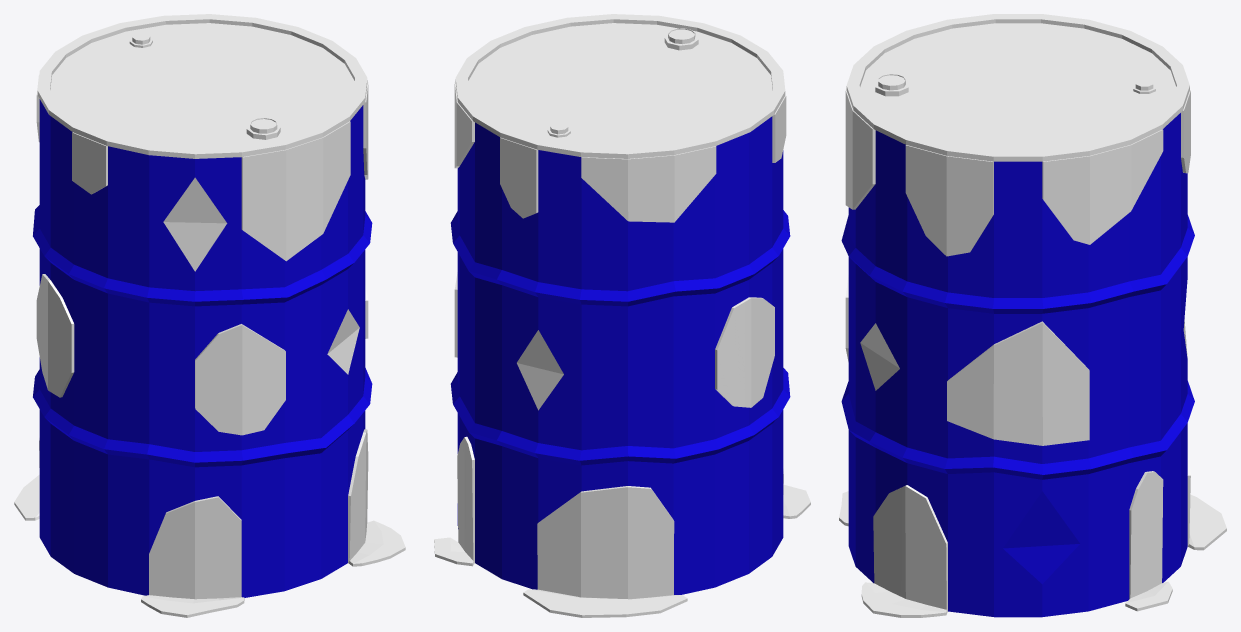
File: SM_Barrel_Closed_01_A.glb
3 renders of one model, left to right at view 1: azimuth 30°, elevation 25°; view 2: azimuth 150°, elevation 25°; view 3: azimuth 270°, elevation 25°, orthographic. The views are drawn at different scales.
Parts seen in each view (by area): view 1: SM_Barrel_Closed_01_A; view 2: SM_Barrel_Closed_01_A; view 3: SM_Barrel_Closed_01_A.
Part boxes in pixels (box(x1,y1,x2,y2)): SM_Barrel_Closed_01_A: box(14, 14, 405, 617); SM_Barrel_Closed_01_A: box(434, 14, 810, 617); SM_Barrel_Closed_01_A: box(839, 14, 1226, 617).
Size of the model in its own units: 0.6081 by 0.9 by 0.6778.
